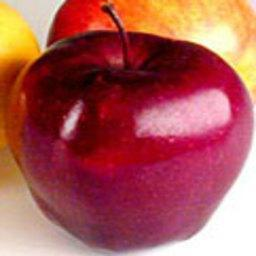apple: (7, 26, 254, 251)
